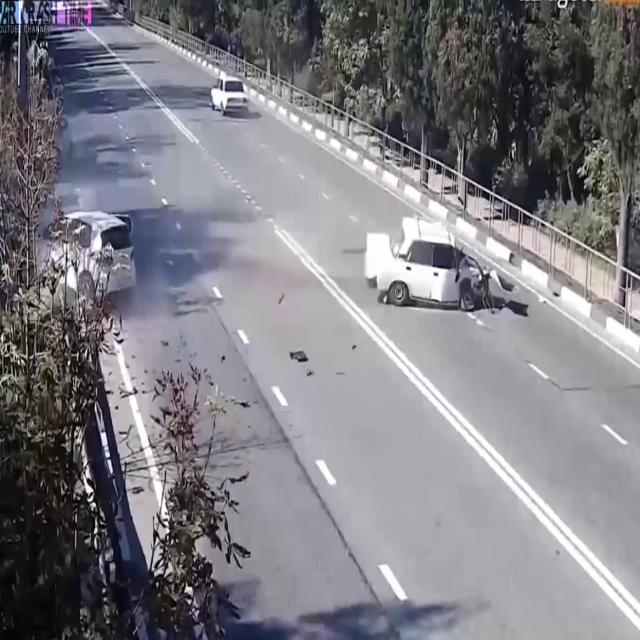accident: (356, 204, 526, 324)
